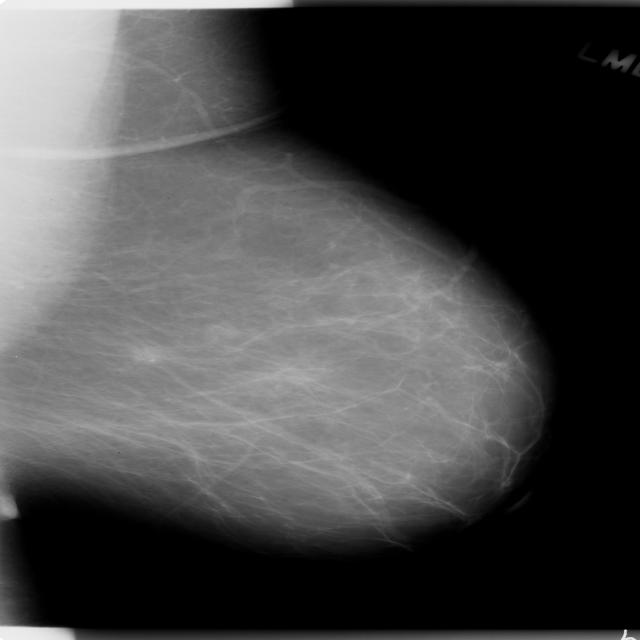normal: (0, 9, 569, 552)
